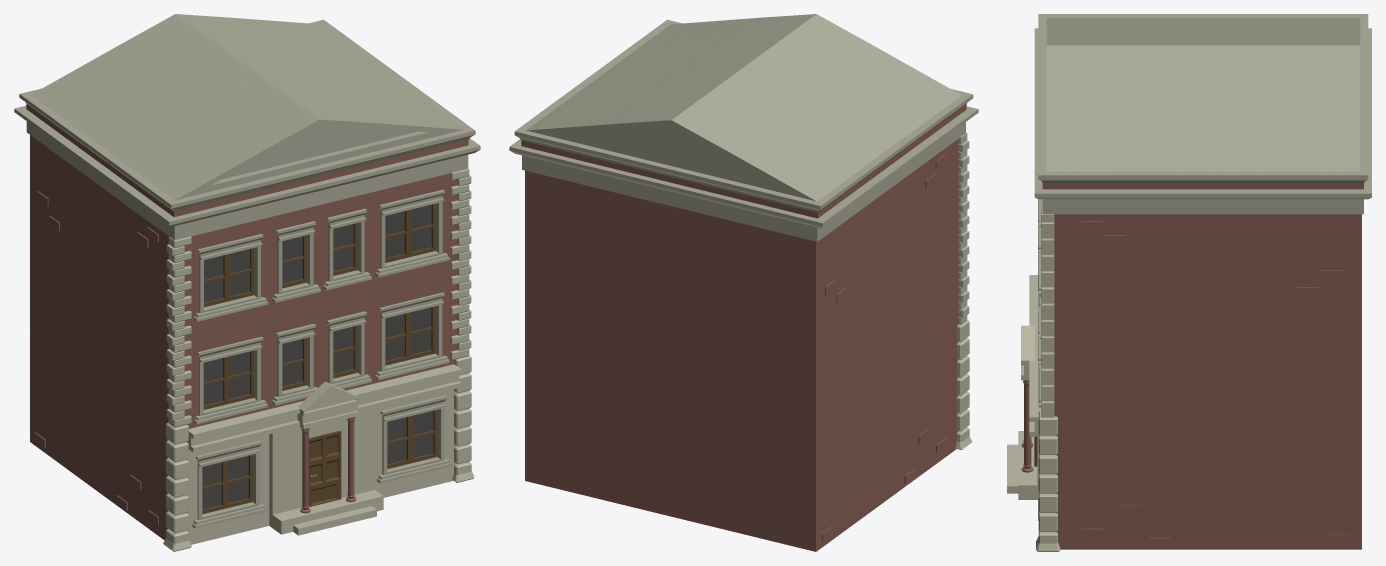
The model's file is quaternius_cc0-big-building-745.glb.
3 renders of one model, left to right at view 1: azimuth 30°, elevation 25°; view 2: azimuth 150°, elevation 25°; view 3: azimuth 270°, elevation 25°, orthographic. The views are drawn at different scales.
Parts seen in each view (by area): view 1: Building3_Big; view 2: Building3_Big; view 3: Building3_Big.
Boxes of the visible parts, bbox=[...] form: Building3_Big: bbox=[14, 14, 480, 551]; Building3_Big: bbox=[509, 14, 978, 551]; Building3_Big: bbox=[1007, 14, 1371, 551].
Size of the model in its own units: 4.71 by 5.68 by 4.39.
Materials: 1 (1 with a texture image).
